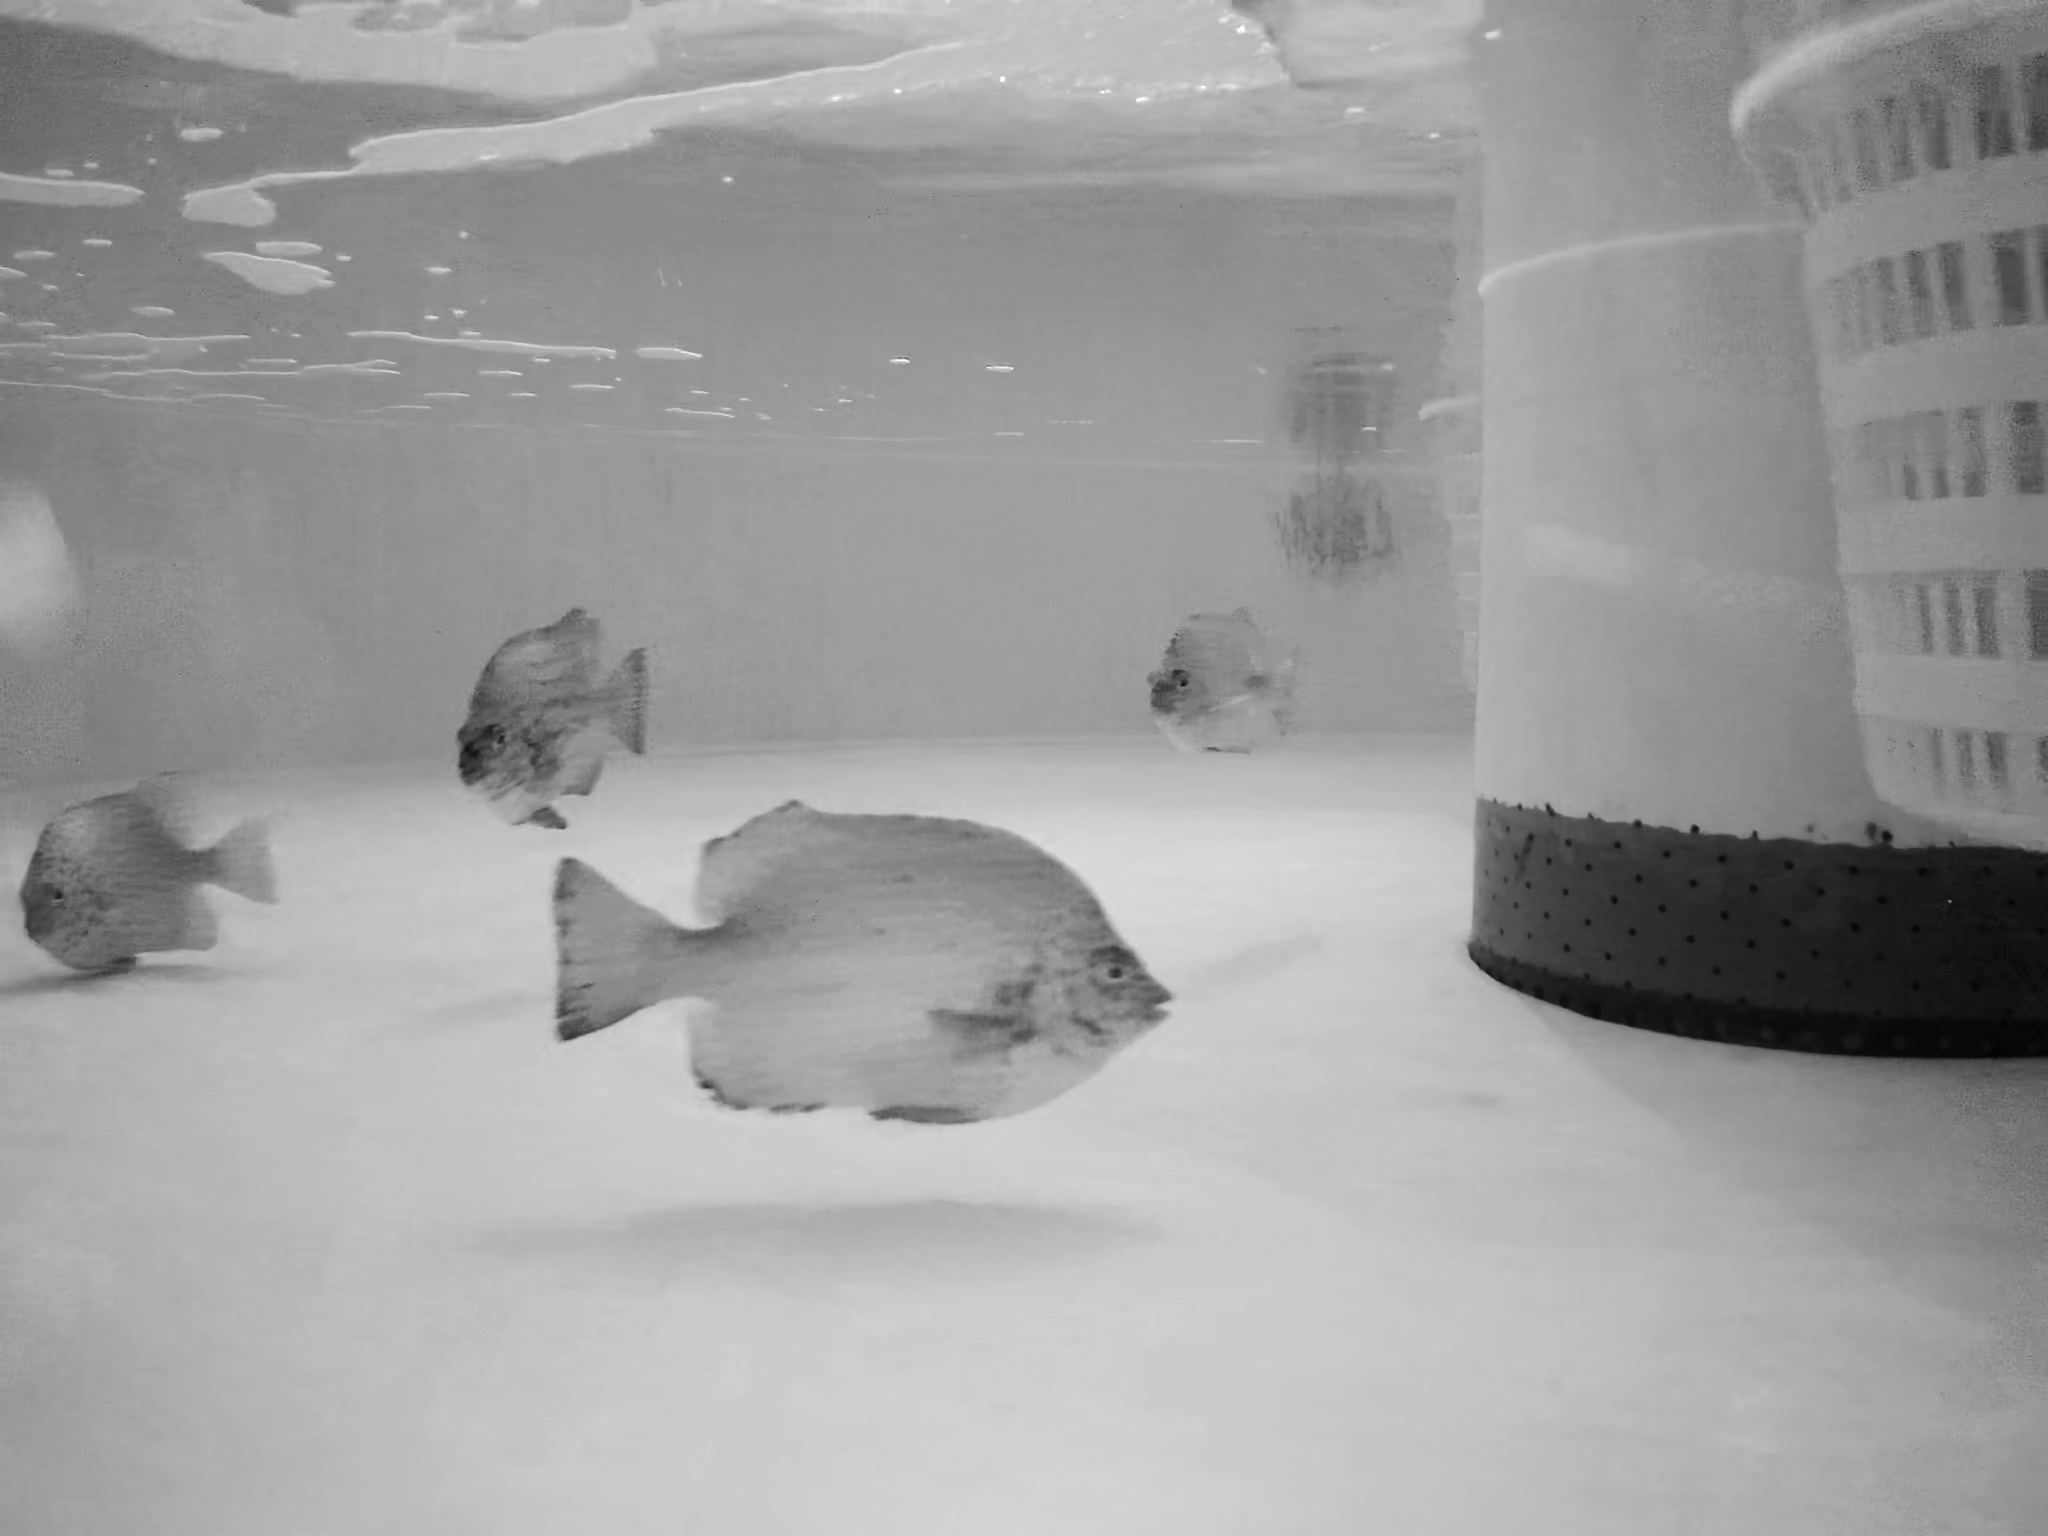fish: (545, 805, 1190, 1150), (37, 781, 298, 966), (461, 620, 651, 823), (1147, 607, 1298, 773)
